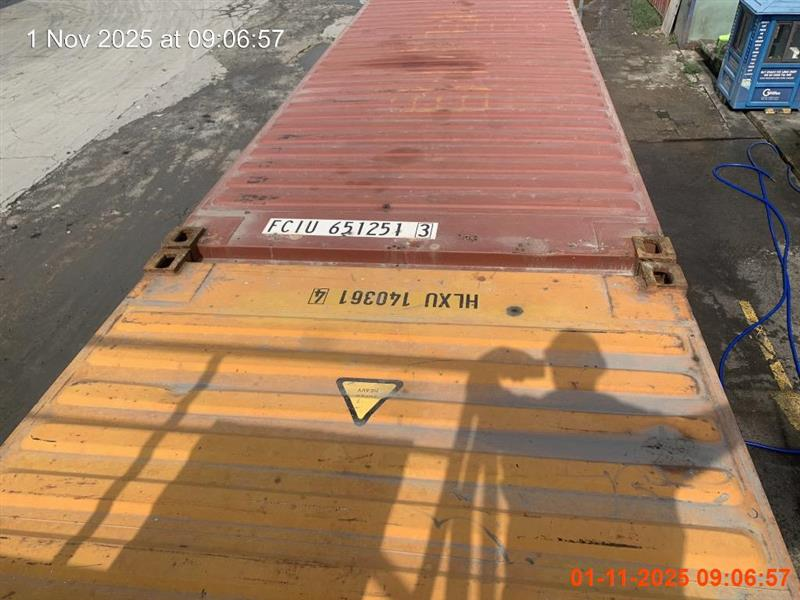broken: (1, 0, 798, 598), (498, 327, 720, 599)
